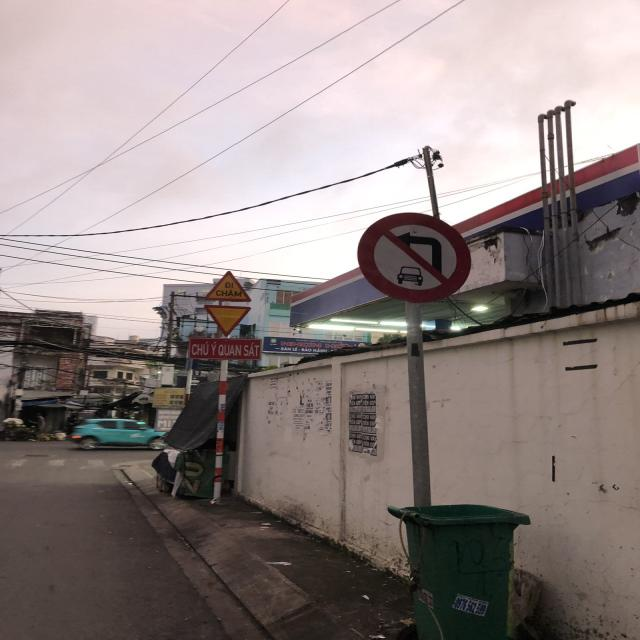Bien bao cam xe o to re trai: (352, 202, 481, 309)
Bien bao di cham: (196, 268, 254, 304)
Bien bao giao nhau voi duong uu tien: (200, 301, 254, 339)
